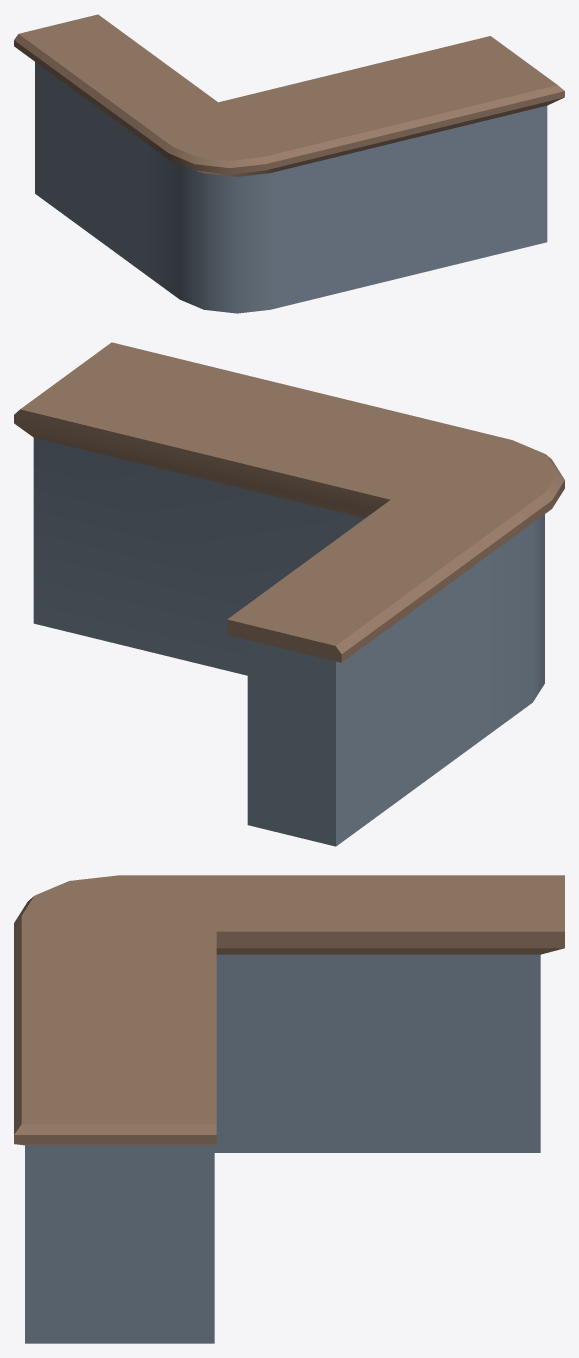
File: Welcome_Desk_Short.fbx
3 renders of one model, top to bottom at view 1: azimuth 30°, elevation 25°; view 2: azimuth 150°, elevation 25°; view 3: azimuth 270°, elevation 25°, orthographic. The views are drawn at different scales.
Parts seen in each view (by area): view 1: Welcome_Desk_Short; view 2: Welcome_Desk_Short; view 3: Welcome_Desk_Short.
Boxes of the visible parts, x1=… form: Welcome_Desk_Short: x1=14, y1=14, x2=564, y2=313; Welcome_Desk_Short: x1=14, y1=342, x2=564, y2=846; Welcome_Desk_Short: x1=14, y1=875, x2=564, y2=1343.
Size of the model in its own units: 783 by 323 by 714.
